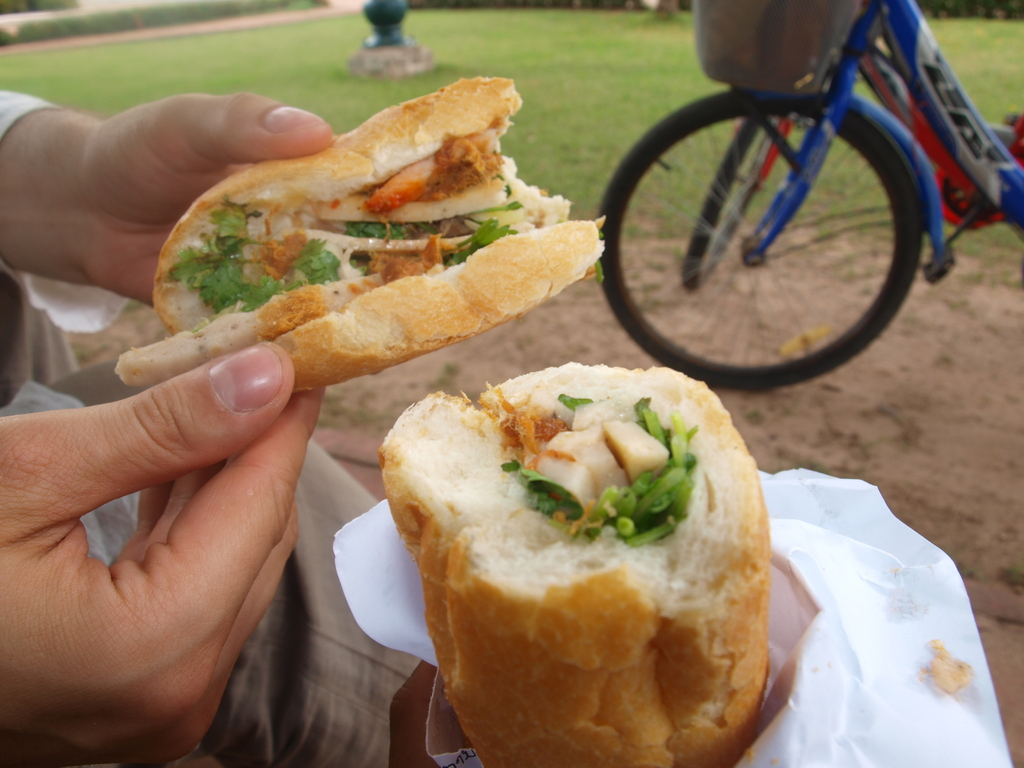sandwich: (376, 362, 765, 767), (114, 84, 605, 397)
